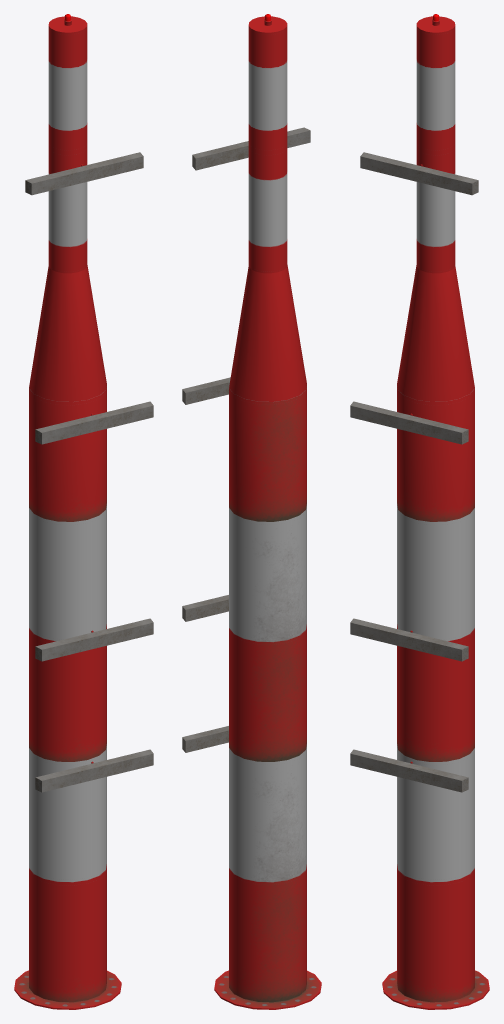
Rendered from SM_Airport_Pole.fbx.
3 views of the same model, side by side, from view 1: azimuth 30°, elevation 25°; view 2: azimuth 210°, elevation 25°; view 3: azimuth 330°, elevation 25° (orthographic).
Parts seen in each view (by area): view 1: SM_Airport_Pole; view 2: SM_Airport_Pole; view 3: SM_Airport_Pole.
Part boxes in pixels (left/top/right/bottom): SM_Airport_Pole: left=14, top=14, right=153, bottom=1009; SM_Airport_Pole: left=182, top=14, right=321, bottom=1009; SM_Airport_Pole: left=350, top=14, right=489, bottom=1009.
Size of the model in its own units: 2 by 16.16 by 1.72.
